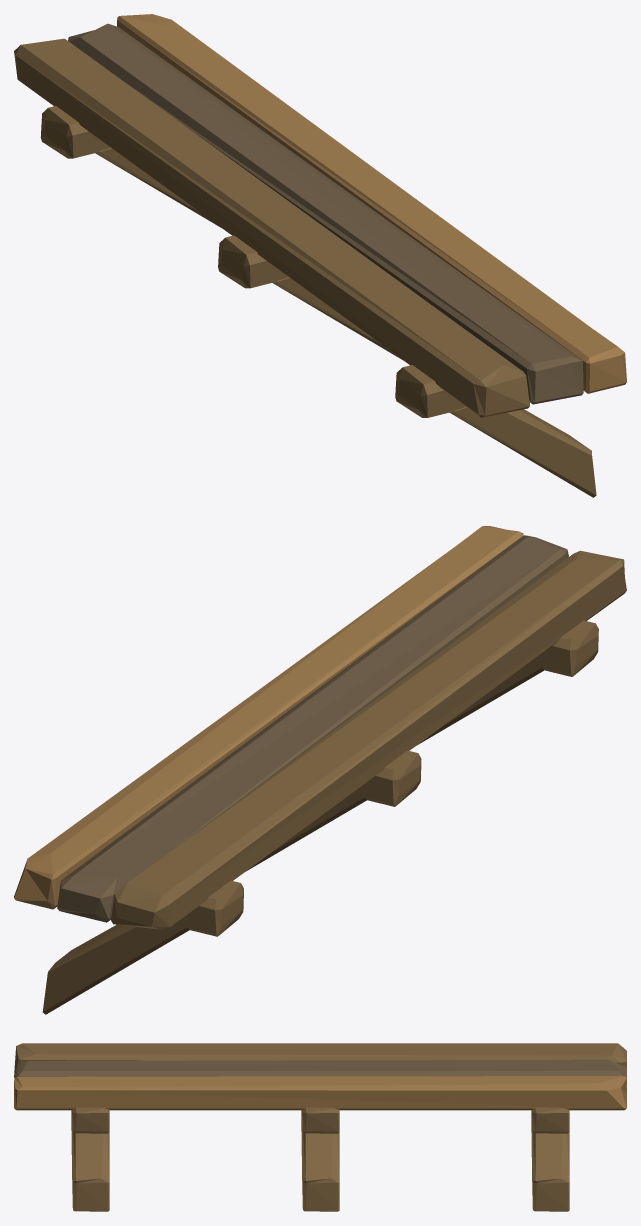
The model's file is Shelf.glb.
The picture shows the model from 3 angles, top to bottom: view 1: azimuth 30°, elevation 25°; view 2: azimuth 150°, elevation 25°; view 3: azimuth 270°, elevation 25°; orthographic projection. The views are drawn at different scales.
Parts seen in each view (by area): view 1: world; view 2: world; view 3: world.
Part boxes in pixels (left/top/right/bottom): world: left=14, top=14, right=626, bottom=497; world: left=14, top=526, right=626, bottom=1014; world: left=14, top=1043, right=626, bottom=1211.
Size of the model in its own units: 74.06 by 75.38 by 347.
